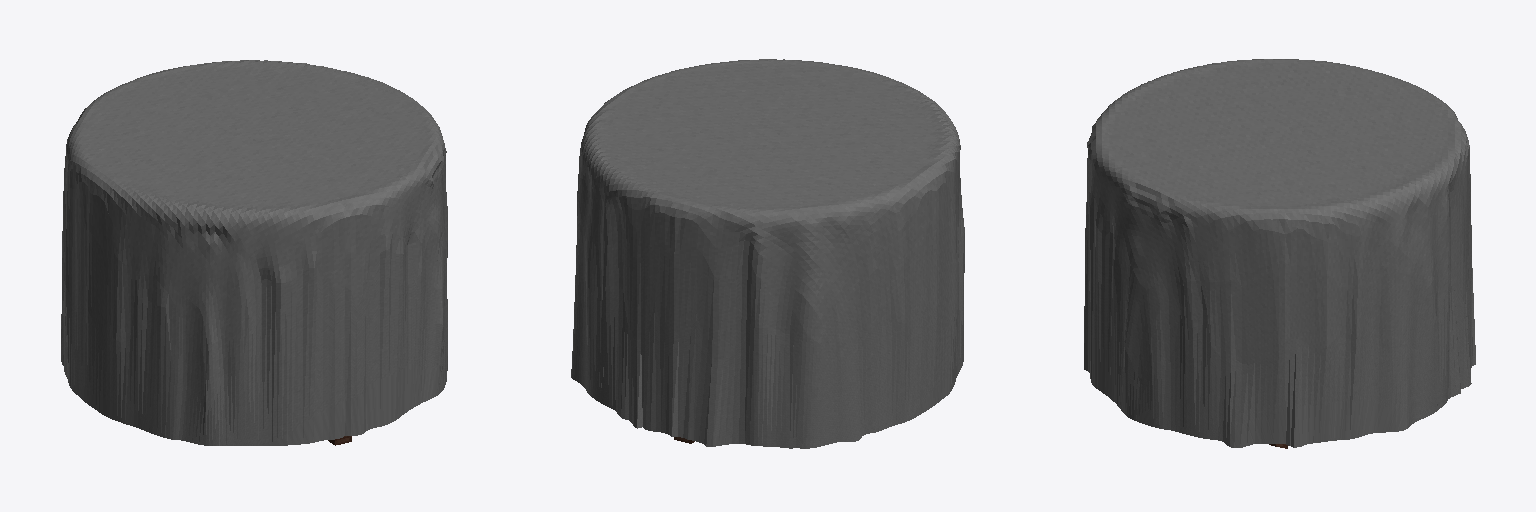
3 views of the same model, side by side, from view 1: azimuth 30°, elevation 25°; view 2: azimuth 150°, elevation 25°; view 3: azimuth 270°, elevation 25° (orthographic).
Parts seen in each view (by area): view 1: Cube.002; view 2: Cube.002; view 3: Cube.002.
Part boxes in pixels (x1,y1,x2,y2): Cube.002: (61, 60, 447, 445); Cube.002: (571, 59, 964, 448); Cube.002: (1084, 59, 1475, 448).
Bounding box in the file's own units: 1.3 × 0.8972 × 1.31.
1 materials, 1 textured.